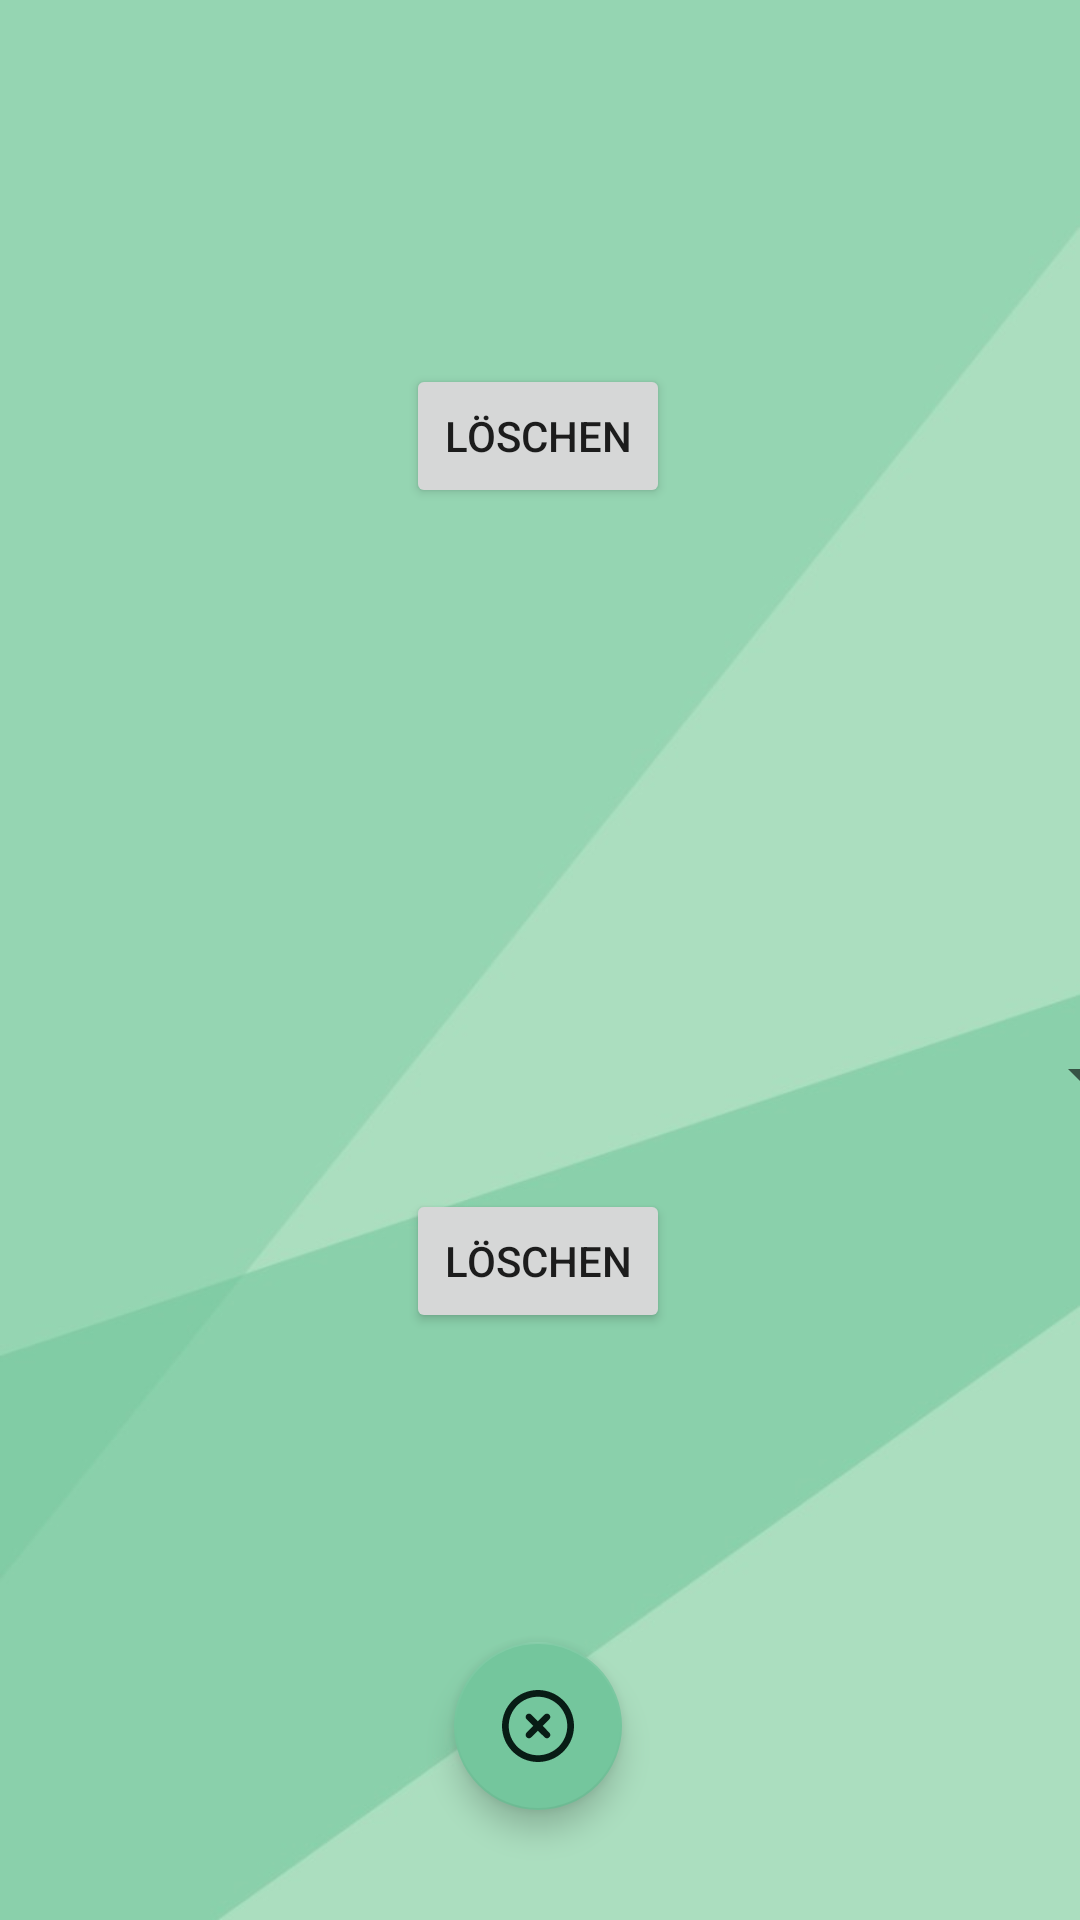

Named icons in this screenshot (1080x1920) and their bounding boxes, (x1, y1, x2, y2):
circle xmark: (454, 1642, 622, 1810)
